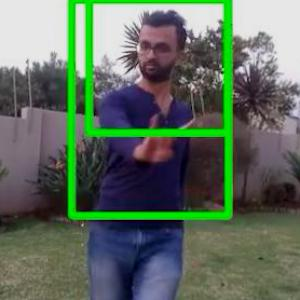takeoff-hand: (124, 107, 179, 169)
